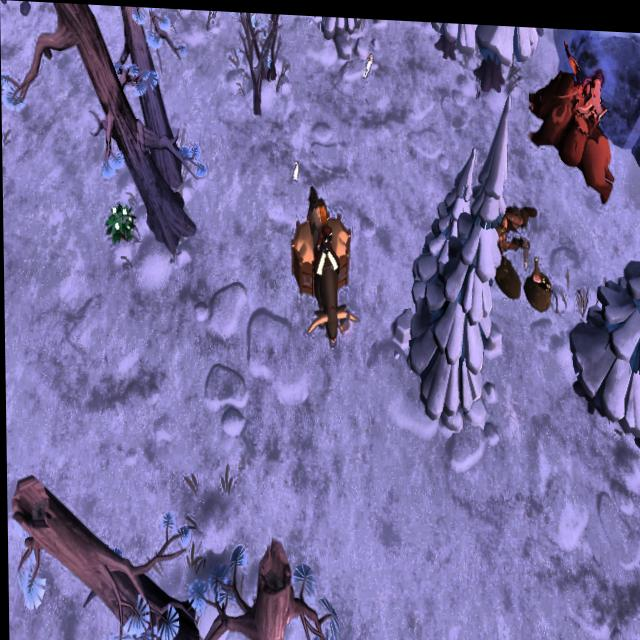fiber_t3: (103, 198, 136, 248)
